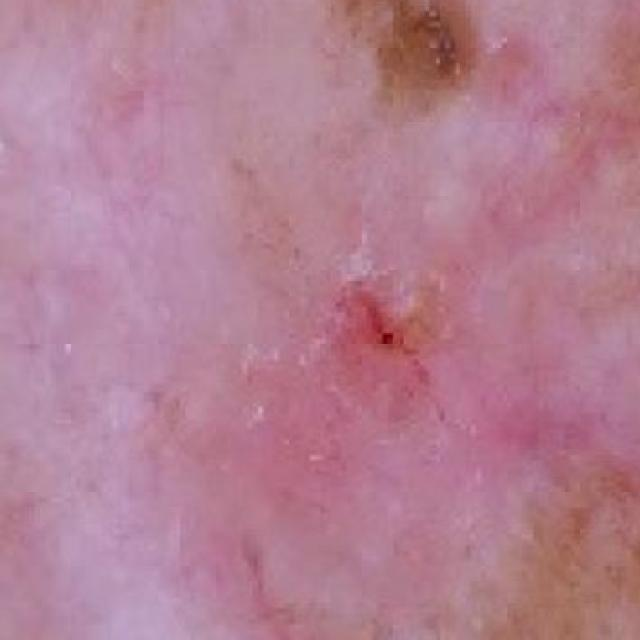BCC: (136, 0, 640, 640)
